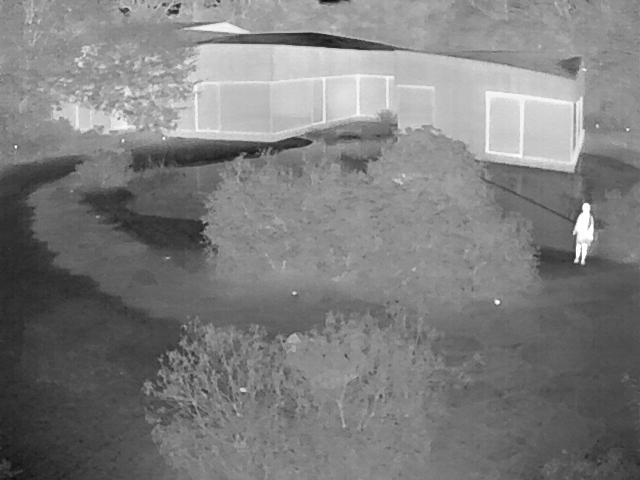person: (573, 201, 597, 265)
